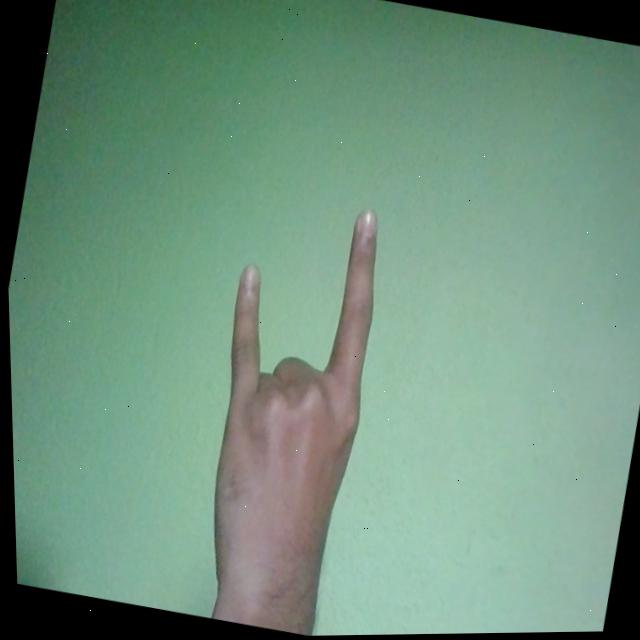Rock On: (172, 186, 403, 630)
